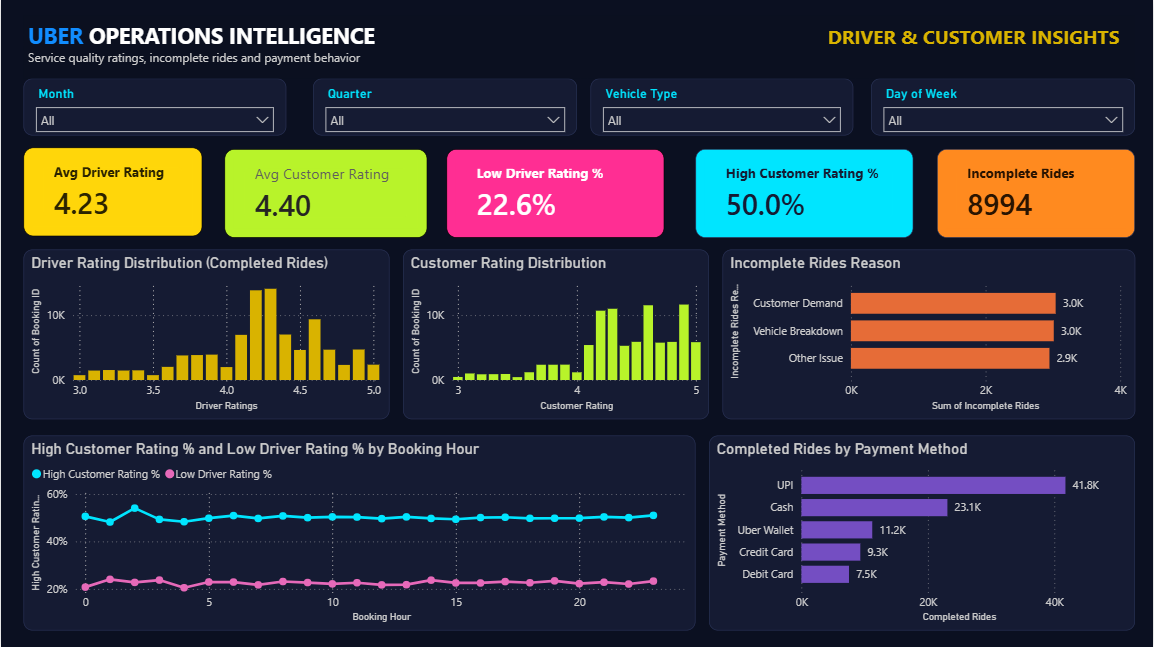

This screenshot's page, from the dashboard's own definition file:
{"tool":"powerbi","page":{"name":"Driver & Customer Insights","canvas":[1280,720],"ordinal":2},"visuals":[{"type":"slicer","fields":{"Values":["Calendar.Year Month"]},"box":[25,88.3,291.7,63.3],"z":0},{"type":"slicer","fields":{"Values":["Calendar.Quarter"]},"box":[346.7,88.3,293.3,63.3],"z":1000},{"type":"slicer","fields":{"Values":["uber_ride_data.Vehicle Type"]},"box":[655,88.3,291.7,63.3],"z":2000},{"type":"slicer","fields":{"Values":["Calendar.Day of Week"]},"box":[966.7,88.3,293.3,63.3],"z":3000},{"type":"textbox","box":[25,18.3,1235,70],"z":4000},{"type":"cardVisual","fields":{"Data":["uber_ride_data.Avg Driver Rating"]},"box":[25,165,198.3,98.3],"z":5000},{"type":"cardVisual","fields":{"Data":["uber_ride_data.Avg Customer Rating"]},"box":[248.3,166.7,225,98.3],"z":6000},{"type":"cardVisual","fields":{"Data":["uber_ride_data.Low Driver Rating %"]},"box":[495,166.7,241.7,98.3],"z":7000},{"type":"cardVisual","fields":{"Data":["uber_ride_data.Incomplete Ride"]},"box":[1040,166.7,220,98.3],"z":8000},{"type":"cardVisual","fields":{"Data":["uber_ride_data.High Customer Rating %"]},"box":[771.7,166.7,241.7,98.3],"z":9000},{"type":"clusteredColumnChart","title":"Driver Rating Distribution (Completed Rides)","fields":{"Category":["uber_ride_data.Driver Ratings"],"Y":["CountNonNull(uber_ride_data.Booking ID)"]},"box":[25,278.3,406.7,188.3],"z":10000},{"type":"clusteredColumnChart","title":"Customer Rating Distribution","fields":{"Category":["uber_ride_data.Customer Rating"],"Y":["CountNonNull(uber_ride_data.Booking ID)"]},"box":[446.7,278.3,340,188.3],"z":11000},{"type":"clusteredBarChart","title":"Incomplete Rides Reason","fields":{"Category":["uber_ride_data.Incomplete Rides Reason"],"Y":["Sum(uber_ride_data.Incomplete Rides)"]},"box":[801.7,278.3,458.3,188.3],"z":12000},{"type":"lineChart","fields":{"Category":["uber_ride_data.Booking Hour"],"Y":["uber_ride_data.High Customer Rating %","uber_ride_data.Low Driver Rating %"]},"box":[25,485,746.7,216.7],"z":13000},{"type":"clusteredBarChart","fields":{"Y":["uber_ride_data.Completed Rides"],"Category":["uber_ride_data.Payment Method"]},"box":[786.7,485,473.3,216.7],"z":14000}]}

Visuals, with their boxes in screenshot pixels (x1, y1, x2, y2), scaled from the page's 1280x720 canvas onto the 1154x647 screenshot:
slicer - Calendar.Year Month: bbox=[23, 79, 286, 136]
slicer - Calendar.Quarter: bbox=[313, 79, 577, 136]
slicer - uber_ride_data.Vehicle Type: bbox=[591, 79, 854, 136]
slicer - Calendar.Day of Week: bbox=[872, 79, 1136, 136]
textbox: bbox=[23, 16, 1136, 79]
cardVisual - uber_ride_data.Avg Driver Rating: bbox=[23, 148, 201, 237]
cardVisual - uber_ride_data.Avg Customer Rating: bbox=[224, 150, 427, 238]
cardVisual - uber_ride_data.Low Driver Rating %: bbox=[446, 150, 664, 238]
cardVisual - uber_ride_data.Incomplete Ride: bbox=[938, 150, 1136, 238]
cardVisual - uber_ride_data.High Customer Rating %: bbox=[696, 150, 914, 238]
"Driver Rating Distribution (Completed Rides)" clusteredColumnChart: bbox=[23, 250, 389, 419]
"Customer Rating Distribution" clusteredColumnChart: bbox=[403, 250, 709, 419]
"Incomplete Rides Reason" clusteredBarChart: bbox=[723, 250, 1136, 419]
lineChart - uber_ride_data.Booking Hour x uber_ride_data.High Customer Rating %: bbox=[23, 436, 696, 631]
clusteredBarChart - uber_ride_data.Completed Rides x uber_ride_data.Payment Method: bbox=[709, 436, 1136, 631]
